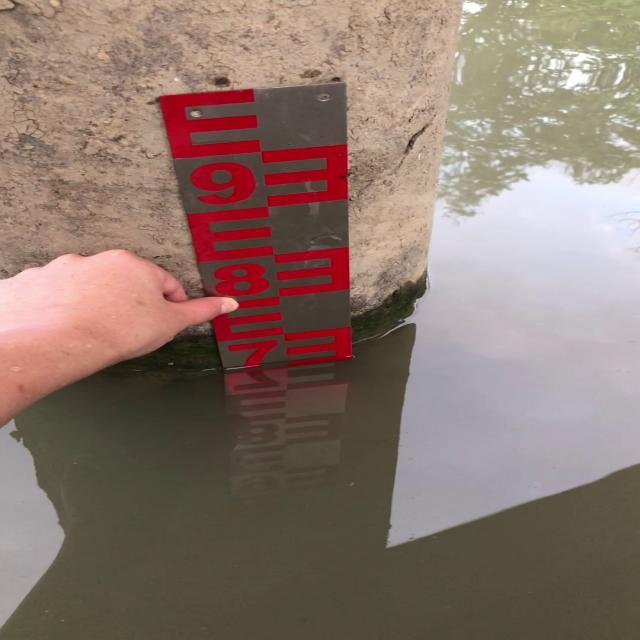ruler: (142, 78, 372, 390)
value: (176, 150, 270, 216), (196, 255, 279, 302), (216, 334, 287, 374)
